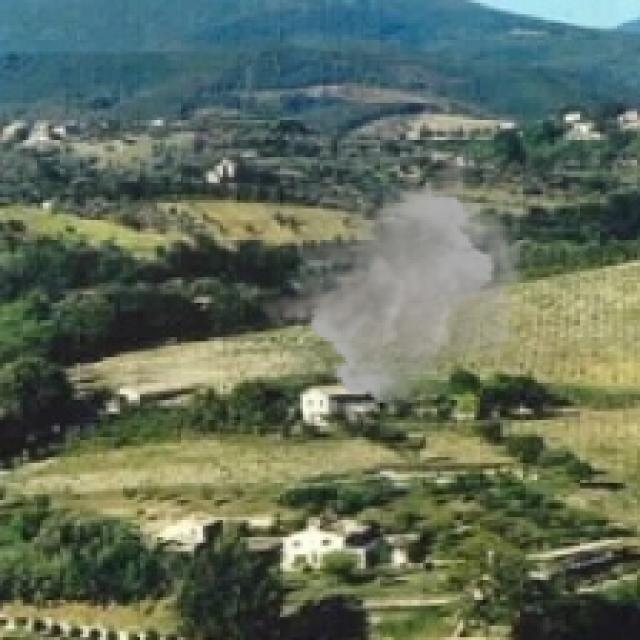Smoke: (257, 148, 532, 408)
